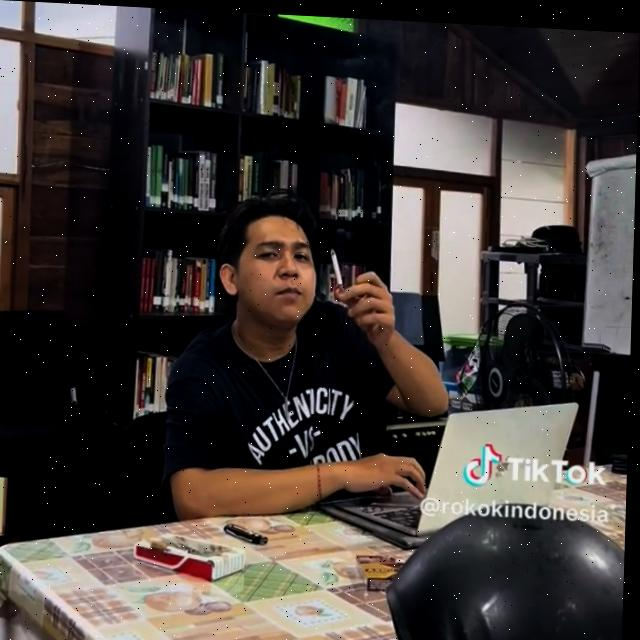cigarette: (331, 245, 348, 289)
